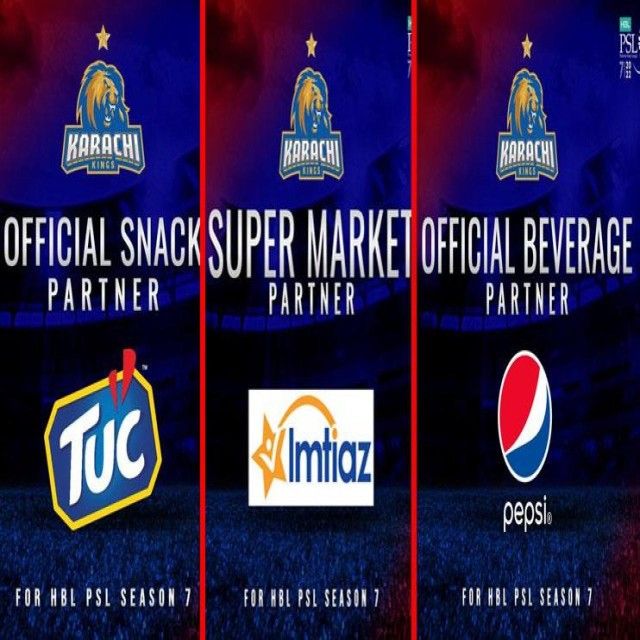pepsi: (498, 351, 554, 485)
